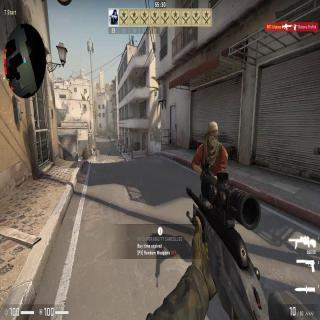T-Body: (187, 109, 237, 299)
T-Head: (207, 121, 219, 147)
